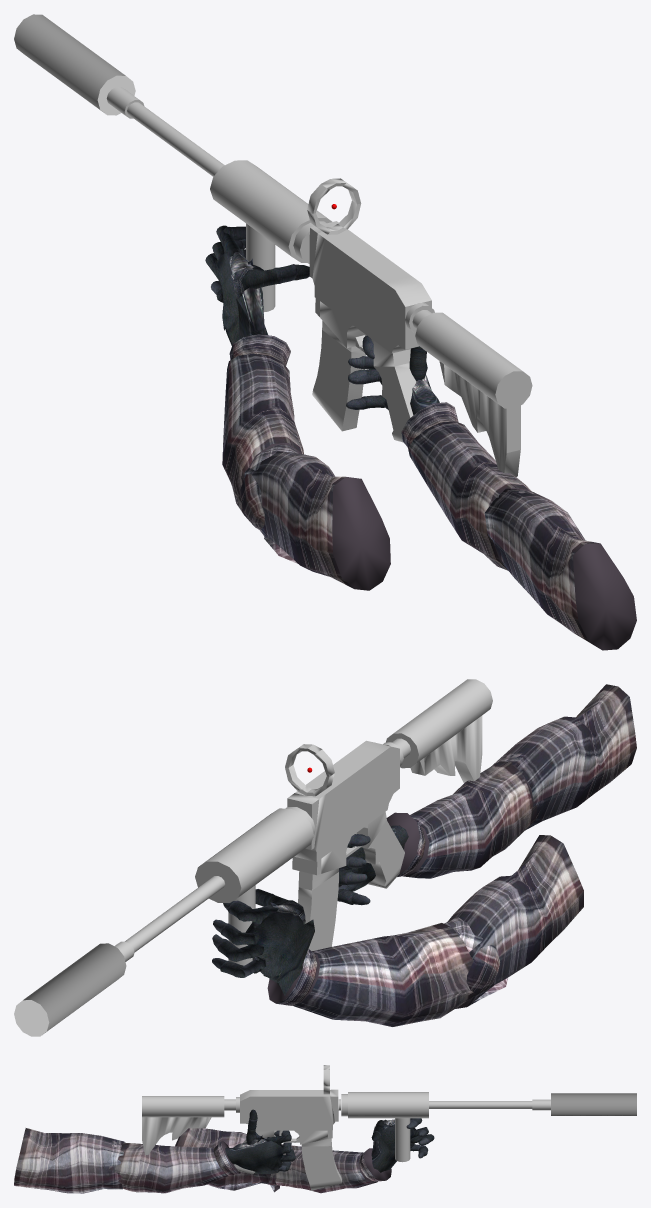
The model's file is oldm4sopmod_view.fbx.
3 views of the same model, one above another, from view 1: azimuth 30°, elevation 25°; view 2: azimuth 150°, elevation 25°; view 3: azimuth 270°, elevation 25° (orthographic). The views are drawn at different scales.
Parts seen in each view (by area): view 1: larm, rupperarm, m4_body, m4_stock, rforearm, m4_grip, lhand, m4_silencer, m4_clip, m4_pistolgrip, m4_barrel, m4_ring (+1 smaller); view 2: larm, rforearm, rupperarm, m4_body, lhand, m4_stock, m4_grip, m4_silencer, m4_clip, m4_pistolgrip, m4_barrel, m4_ring (+2 smaller); view 3: rupperarm, rforearm, larm, m4_body, m4_stock, m4_grip, m4_silencer, lhand, m4_clip, rhand, m4_barrel, m4_tommygrip (+2 smaller).
Part boxes in pixels (left/top/right/bottom): larm: left=222, top=334, right=390, bottom=590; rupperarm: left=484, top=488, right=636, bottom=650; m4_body: left=309, top=221, right=431, bottom=353; m4_stock: left=405, top=303, right=532, bottom=476; rforearm: left=401, top=402, right=531, bottom=570; m4_grip: left=210, top=160, right=332, bottom=263; lhand: left=205, top=225, right=309, bottom=345; m4_silencer: left=14, top=14, right=135, bottom=115; m4_clip: left=312, top=320, right=365, bottom=431; m4_pistolgrip: left=373, top=340, right=423, bottom=442; m4_barrel: left=106, top=87, right=224, bottom=176; m4_ring: left=307, top=178, right=361, bottom=234; larm: left=267, top=835, right=583, bottom=1026; rforearm: left=386, top=761, right=537, bottom=878; rupperarm: left=491, top=684, right=636, bottom=830; m4_body: left=287, top=740, right=399, bottom=875; lhand: left=212, top=889, right=314, bottom=995; m4_stock: left=383, top=679, right=492, bottom=782; m4_grip: left=195, top=807, right=315, bottom=902; m4_silencer: left=14, top=943, right=126, bottom=1036; m4_clip: left=298, top=868, right=338, bottom=951; m4_pistolgrip: left=356, top=812, right=404, bottom=888; m4_barrel: left=114, top=876, right=224, bottom=961; m4_ring: left=285, top=744, right=334, bottom=796; rupperarm: left=14, top=1128, right=124, bottom=1193; rforearm: left=114, top=1141, right=240, bottom=1193; larm: left=175, top=1128, right=391, bottom=1193; m4_body: left=240, top=1089, right=338, bottom=1144; m4_stock: left=142, top=1096, right=239, bottom=1154; m4_grip: left=338, top=1092, right=428, bottom=1118; m4_silencer: left=551, top=1093, right=636, bottom=1115; lhand: left=371, top=1118, right=434, bottom=1172; m4_clip: left=301, top=1138, right=341, bottom=1190; rhand: left=225, top=1138, right=283, bottom=1173; m4_barrel: left=429, top=1099, right=550, bottom=1110; m4_tommygrip: left=395, top=1118, right=410, bottom=1162.
Bounding box in the file's own units: 9.28 × 14.84 × 54.98.
